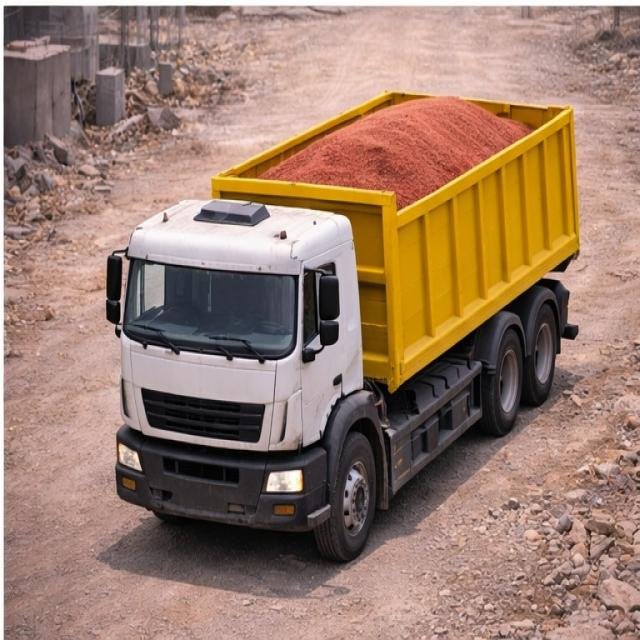Box: (210, 90, 576, 216)
Truck: (95, 88, 593, 554)
